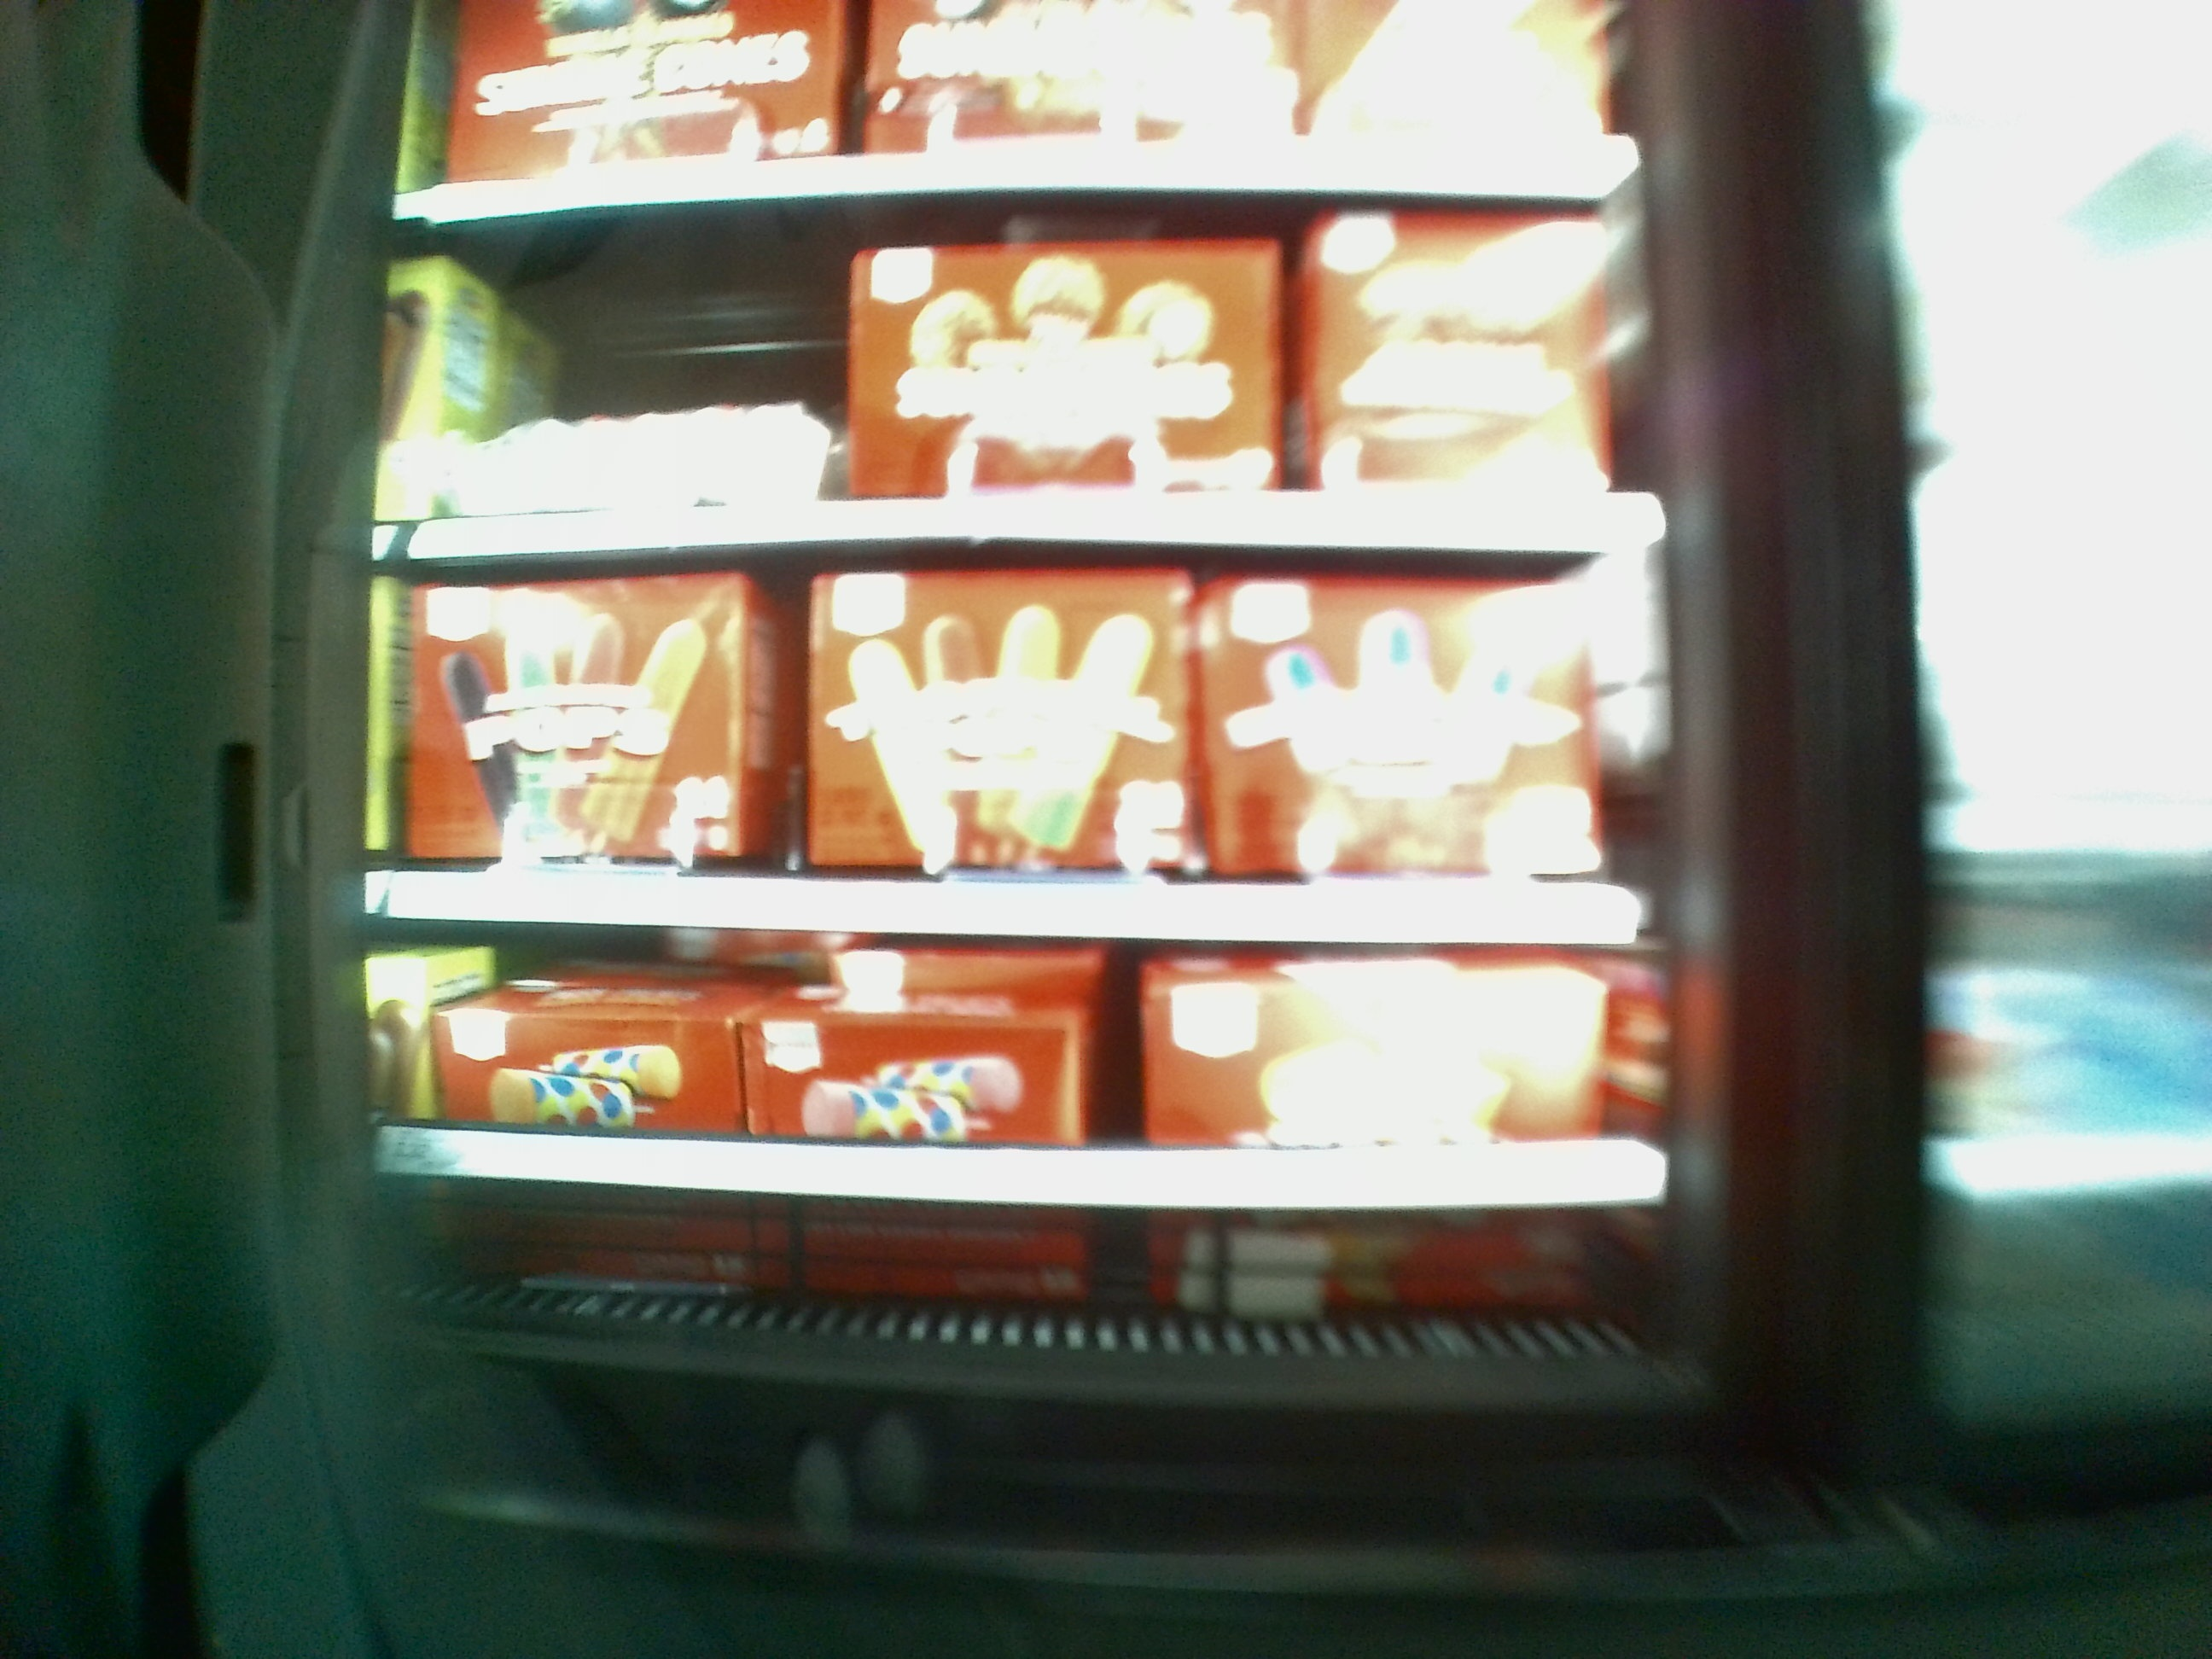shelf: (383, 948, 1648, 1347), (373, 575, 1641, 953), (413, 200, 1646, 563)
